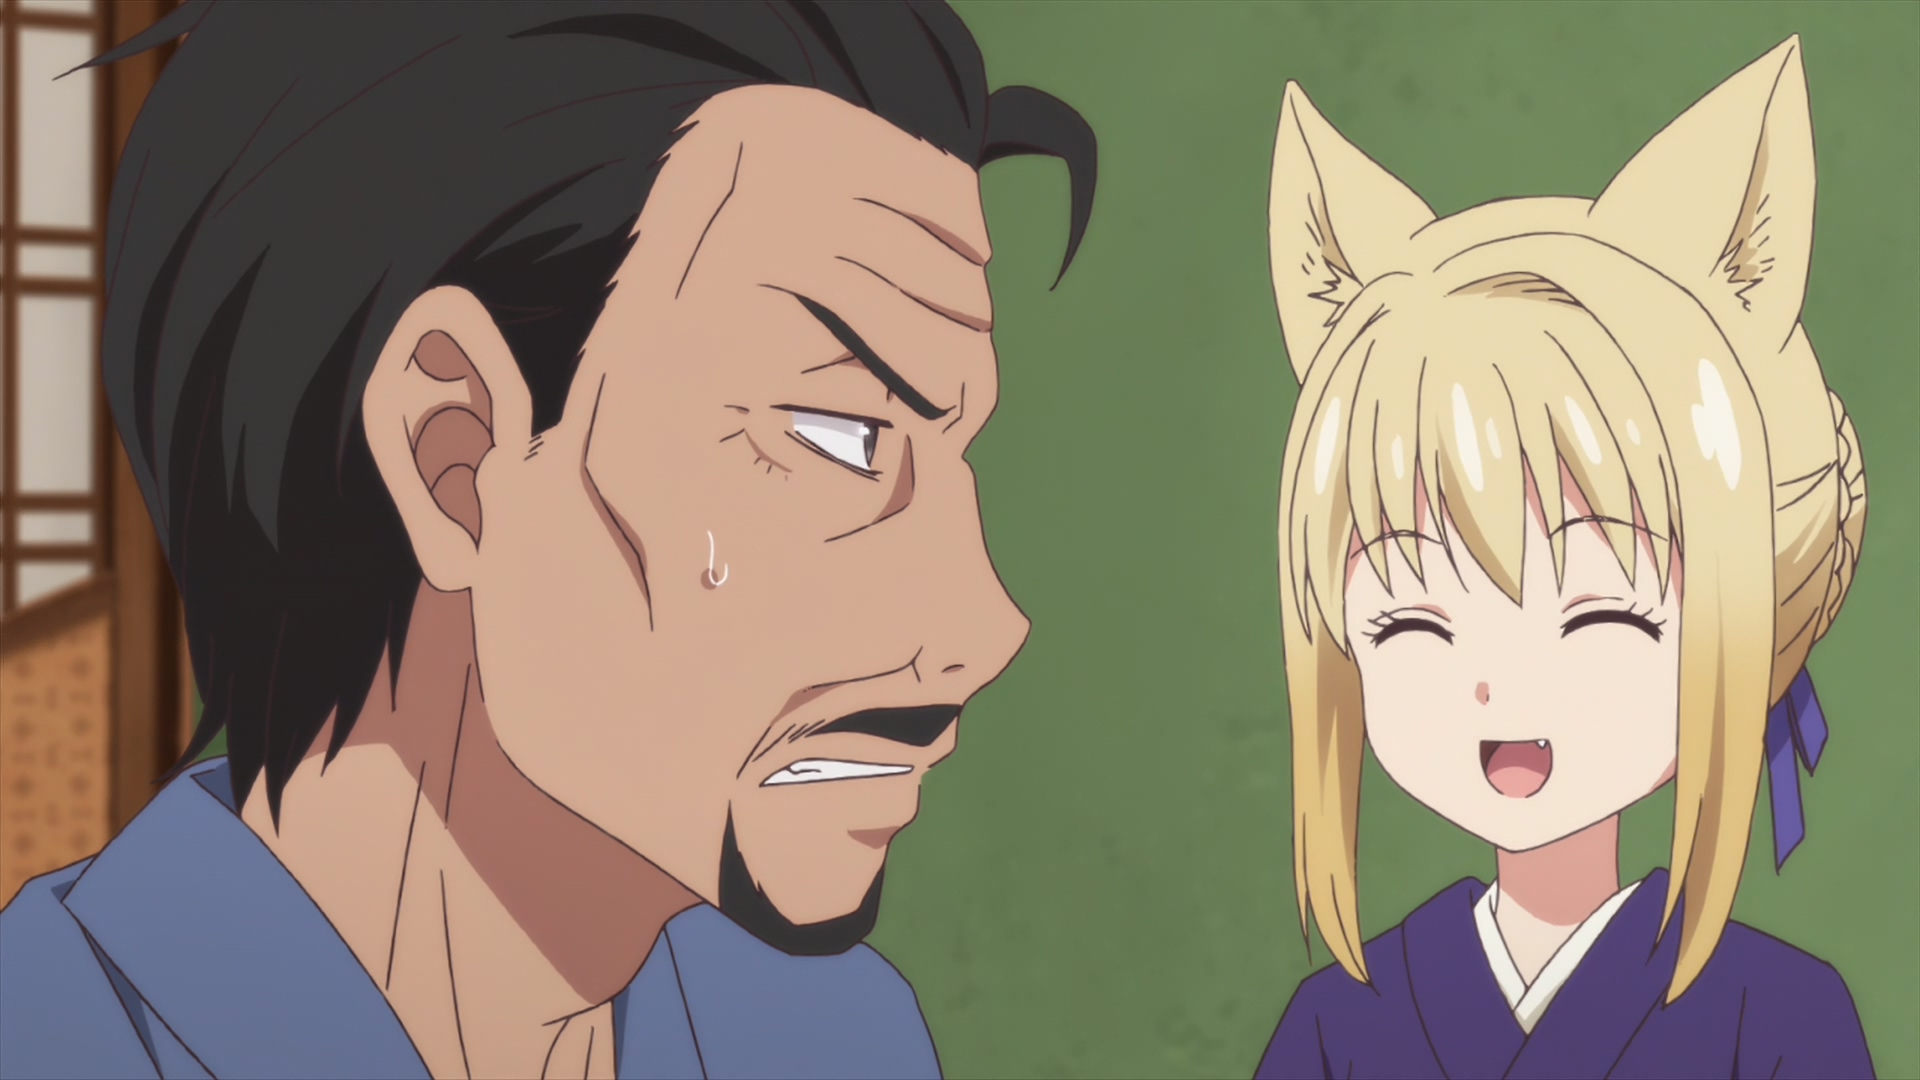其他: (1, 1, 1096, 1080)
桐: (1250, 34, 1876, 1080)
